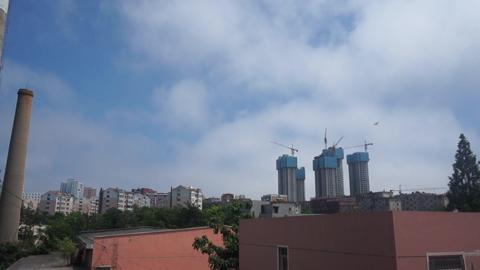UAV: (373, 121, 380, 126)
